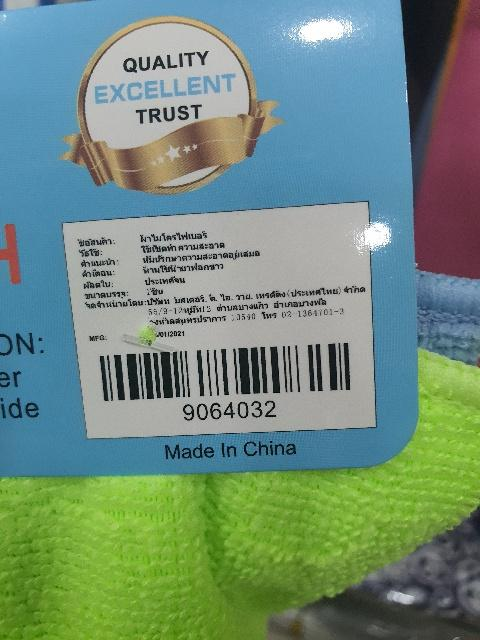Barcode: (87, 334, 369, 420)
